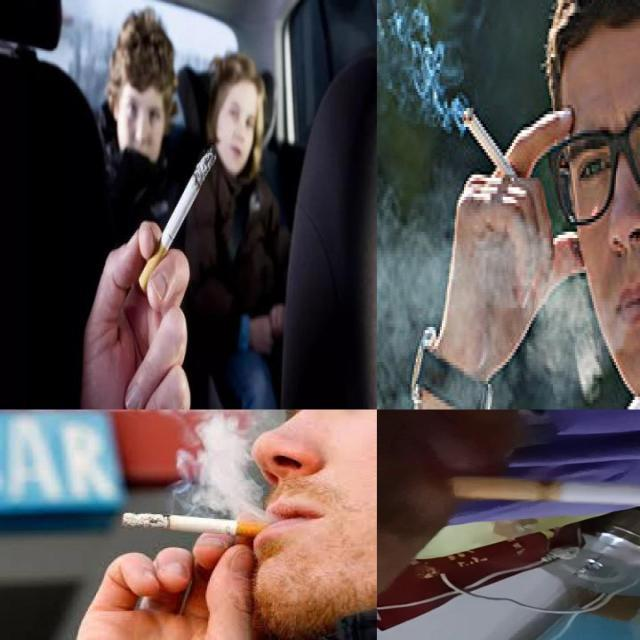smoking: (139, 148, 217, 294), (450, 474, 640, 516), (463, 104, 520, 188), (122, 512, 282, 538)
